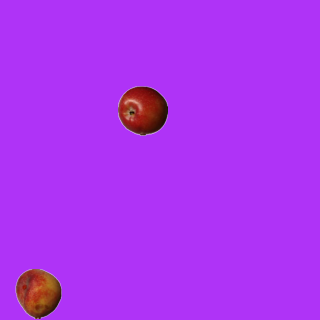Apple Braeburn: (117, 85, 167, 135)
Peach: (13, 268, 63, 318)
